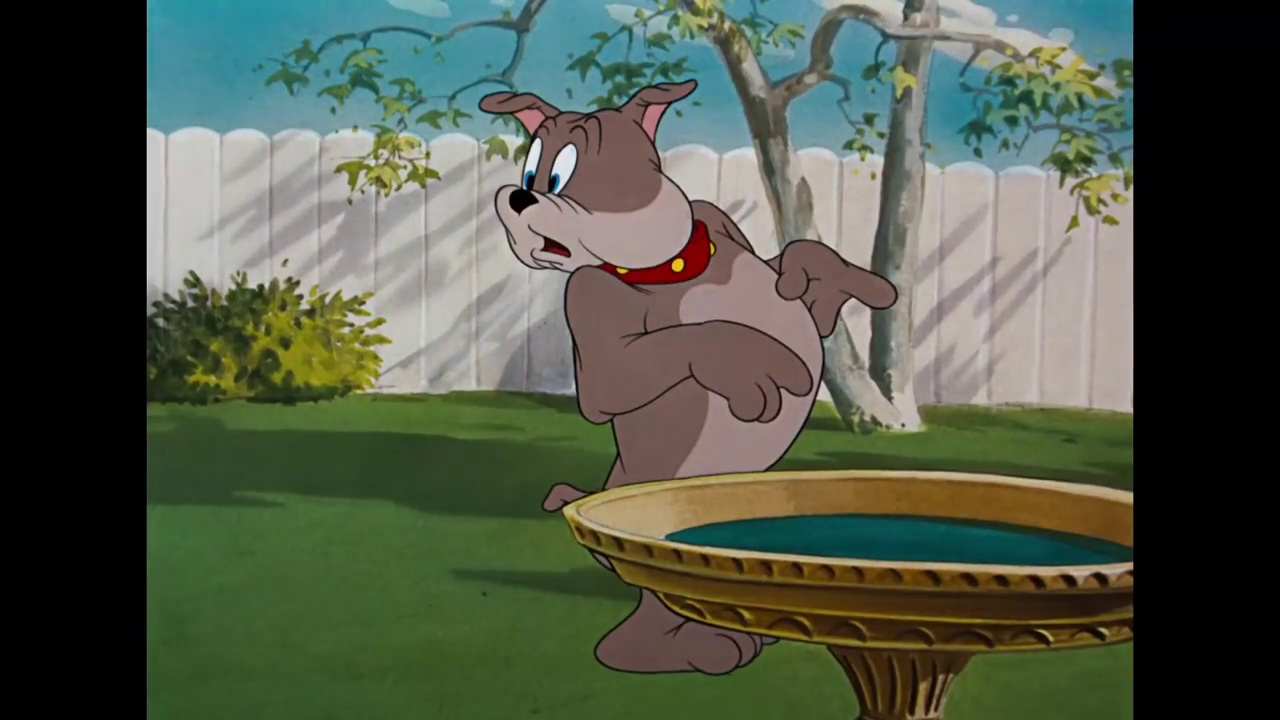spike: (478, 79, 726, 300)
